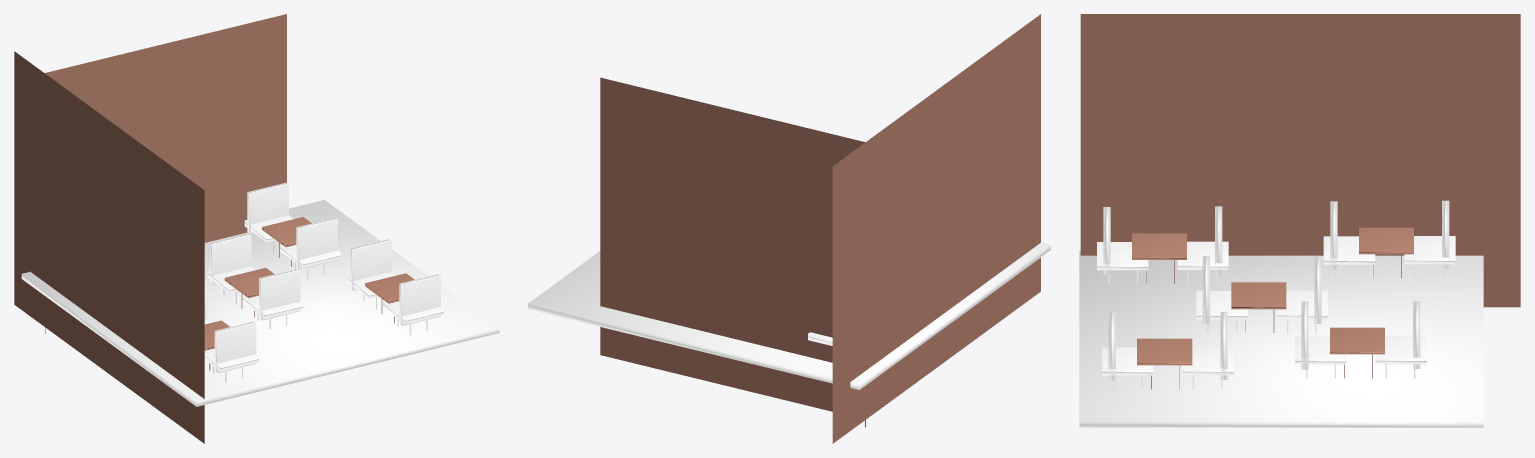
Rendered from toon.glb.
The picture shows the model from 3 angles, left to right: view 1: azimuth 30°, elevation 25°; view 2: azimuth 150°, elevation 25°; view 3: azimuth 270°, elevation 25°; orthographic projection. The views are drawn at different scales.
Parts seen in each view (by area): view 1: Plane.002, Plane.001, Plane, Cube.056, Cube.073, Cube.022, Cube.039, Cube.079, Cube.028, Cube.045, Cube, Cube.080 (+5 smaller); view 2: Plane.001, Plane.002, Plane; view 3: Plane.002, Plane, Cube.046, Cube, Cube.029, Cube.080, Cube.063, Cube.027, Cube.015, Cube.078, Cube.009, Cube.044 (+15 smaller).
Boxes of the visible parts, x1=… form: Plane.002: x1=14, y1=51, x2=204, y2=443; Plane.001: x1=45, y1=14, x2=286, y2=242; Plane: x1=21, y1=200, x2=499, y2=406; Cube.056: x1=214, y1=321, x2=256, y2=373; Cube.073: x1=296, y1=218, x2=337, y2=269; Cube.022: x1=399, y1=274, x2=440, y2=325; Cube.039: x1=259, y1=268, x2=300, y2=320; Cube.079: x1=247, y1=182, x2=288, y2=234; Cube.028: x1=350, y1=239, x2=391, y2=290; Cube.045: x1=210, y1=233, x2=251, y2=285; Cube: x1=365, y1=273, x2=414, y2=303; Cube.080: x1=262, y1=217, x2=311, y2=247; Plane.001: x1=600, y1=77, x2=865, y2=411; Plane.002: x1=832, y1=14, x2=1040, y2=443; Plane: x1=528, y1=242, x2=1050, y2=389; Plane.002: x1=1080, y1=14, x2=1520, y2=307; Plane: x1=1079, y1=250, x2=1483, y2=427; Cube.046: x1=1231, y1=282, x2=1286, y2=309; Cube: x1=1137, y1=338, x2=1192, y2=365; Cube.029: x1=1359, y1=227, x2=1413, y2=254; Cube.080: x1=1330, y1=327, x2=1384, y2=354; Cube.063: x1=1132, y1=233, x2=1186, y2=259; Cube.027: x1=1182, y1=347, x2=1233, y2=375; Cube.015: x1=1404, y1=236, x2=1455, y2=264; Cube.078: x1=1375, y1=336, x2=1426, y2=364; Cube.009: x1=1323, y1=236, x2=1375, y2=264; Cube.044: x1=1276, y1=290, x2=1327, y2=319.
Bounding box in the file's own units: 21.79 × 17.92 × 23.78.
